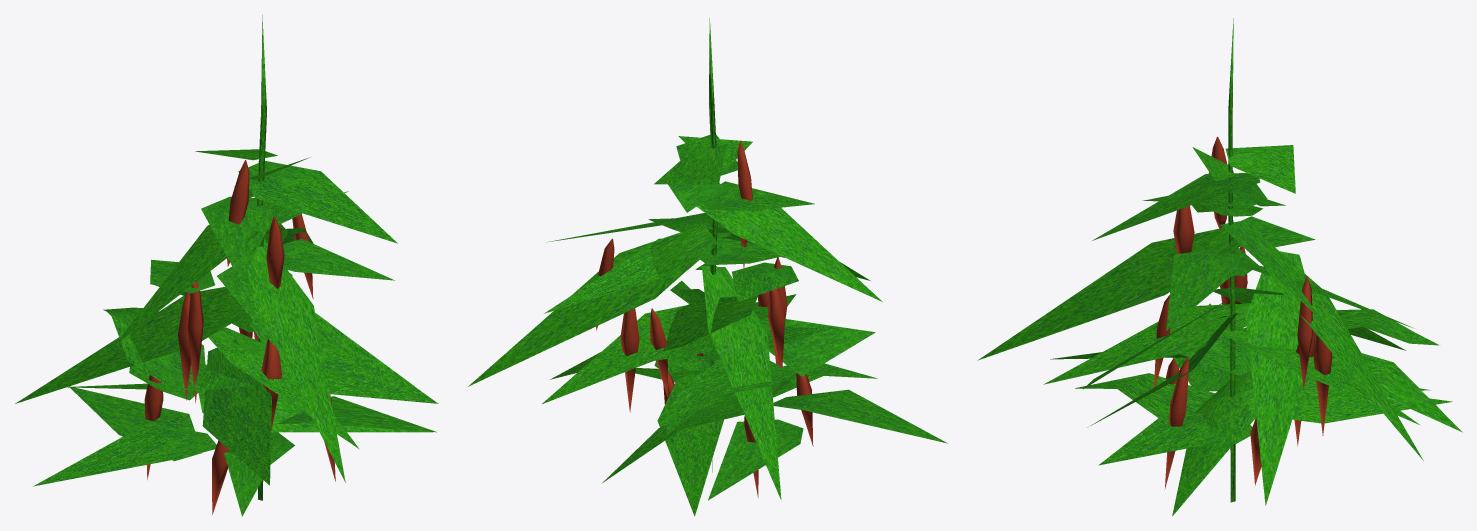
The model's file is ChilliLG_lod2.obj.
3 renders of one model, left to right at view 1: azimuth 30°, elevation 25°; view 2: azimuth 150°, elevation 25°; view 3: azimuth 270°, elevation 25°, orthographic. The views are drawn at different scales.
Parts seen in each view (by area): view 1: Default_Layer; view 2: Default_Layer; view 3: Default_Layer.
Part boxes in pixels (<box>): Default_Layer: <box>15,15,438,516</box>; Default_Layer: <box>468,17,947,516</box>; Default_Layer: <box>977,18,1462,516</box>.
Size of the model in its own units: 2587 by 2973 by 2678.
2 materials, 2 textured.
